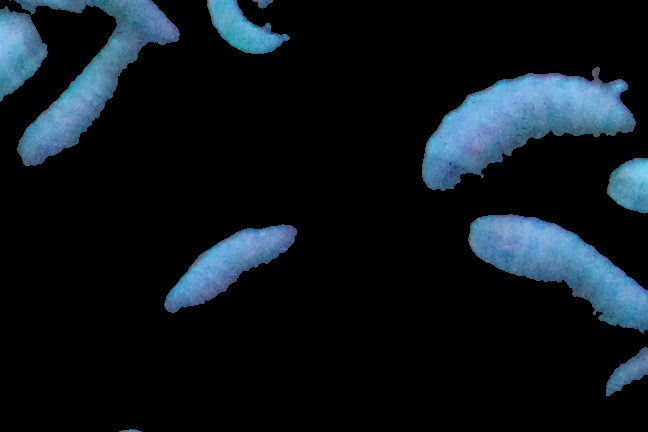larvae: (418, 63, 637, 192), (466, 213, 645, 331), (14, 27, 146, 167), (164, 220, 299, 320), (206, 1, 293, 63)
